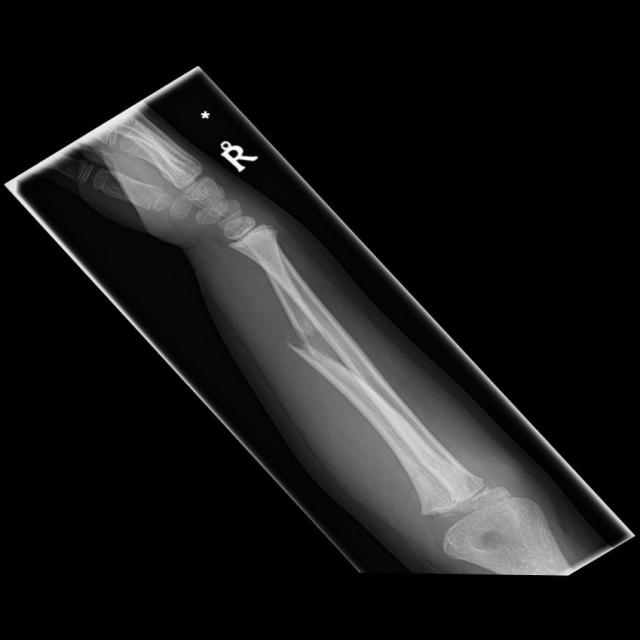Oblique: (262, 312, 373, 384)
